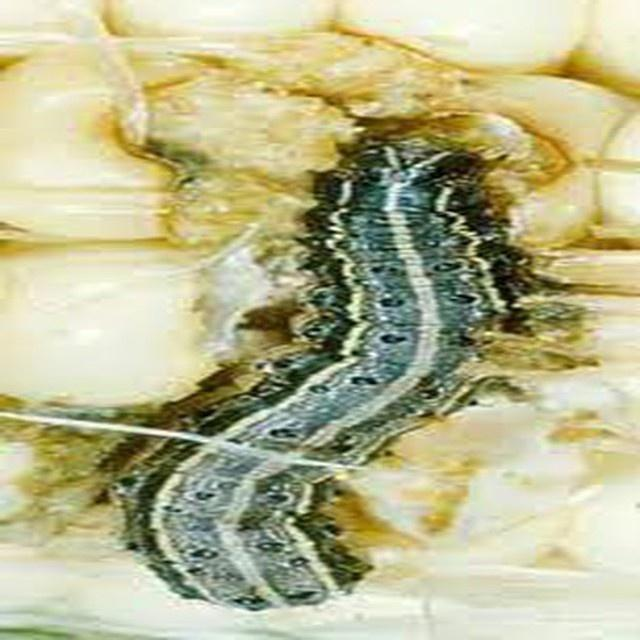gusano_cogollero: (108, 134, 510, 612)
